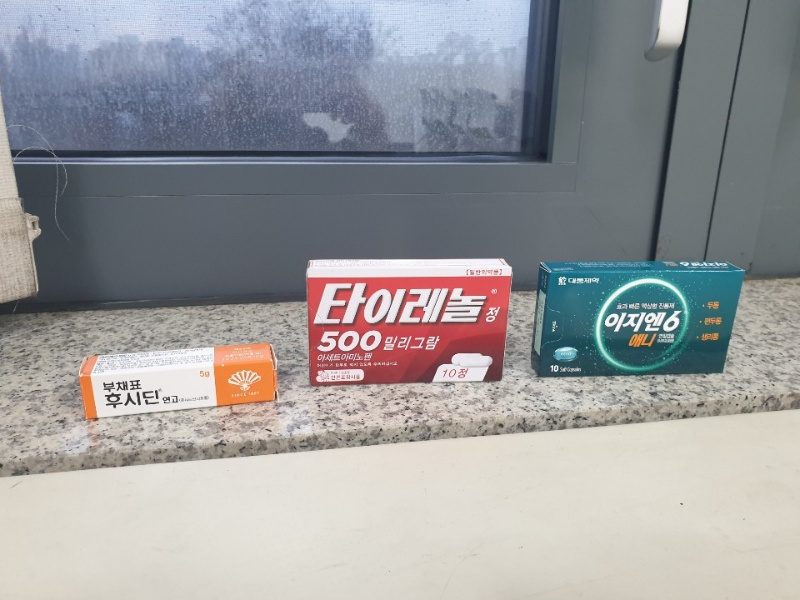ezn: (534, 263, 746, 376)
fucidin: (77, 340, 278, 418)
tylenol: (308, 257, 509, 379)
